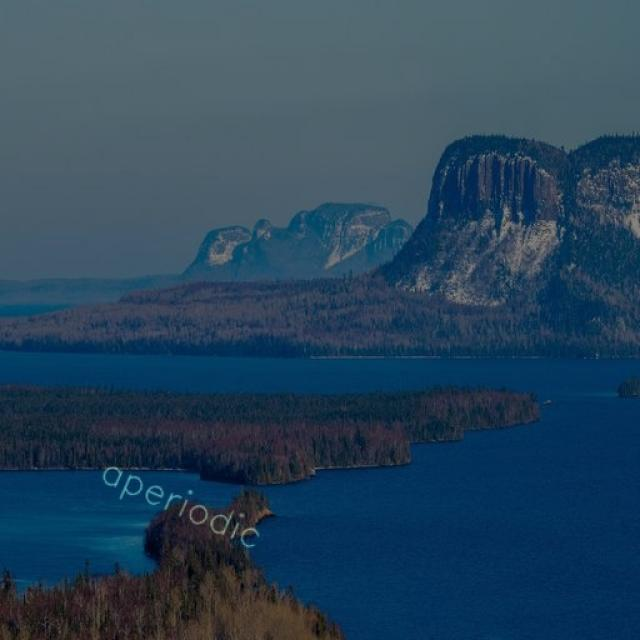watermark: (88, 450, 282, 556)
